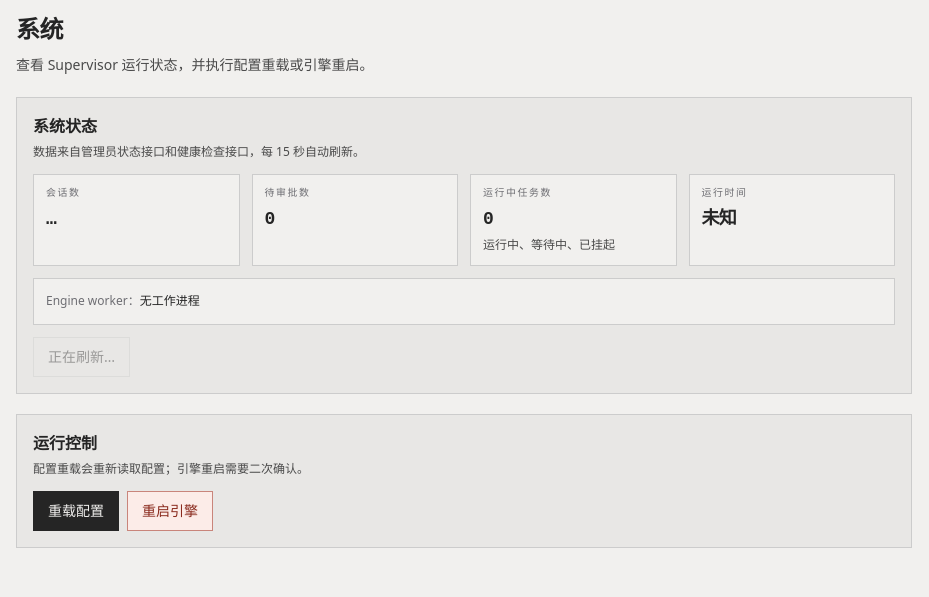
被拒的重启在界面上 › 系统设置页说清是上一次重启还没收尾
Click the button "重启引擎" at {"x": 170, "y": 511}, box x1=127 y1=491 x2=213 y2=531
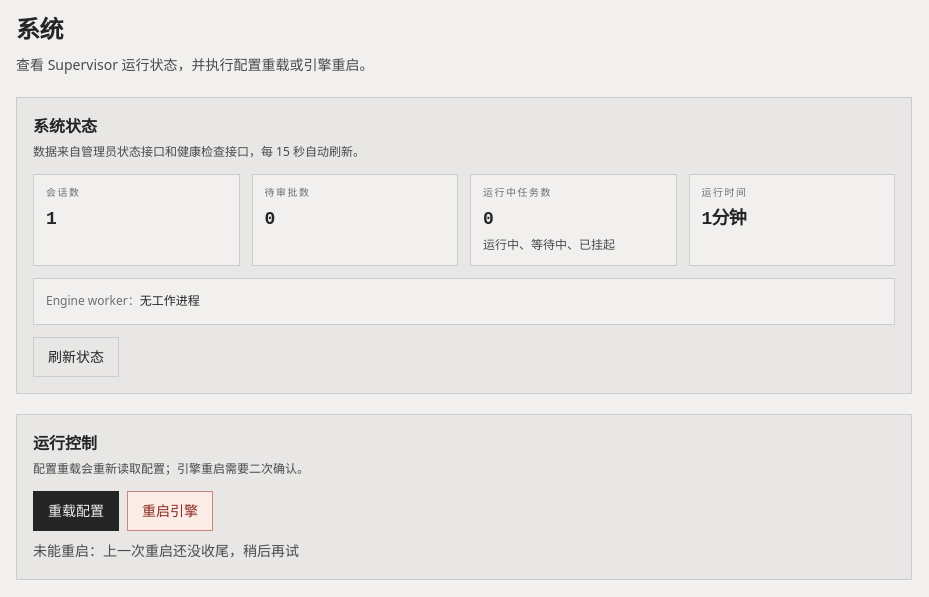
Expected: the message reads "未能重启：上一次重启还没收尾，稍后再试", x1=33 y1=541 x2=299 y2=560
